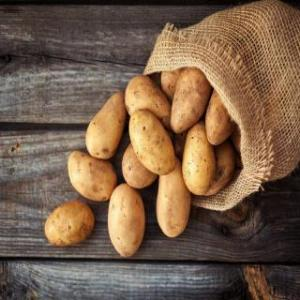potato: (82, 90, 126, 158), (128, 113, 176, 173), (106, 185, 144, 259), (67, 148, 117, 204), (154, 162, 190, 236), (192, 140, 234, 198), (44, 202, 96, 248), (170, 68, 206, 134), (124, 74, 168, 122), (186, 125, 212, 195), (204, 86, 234, 146)
